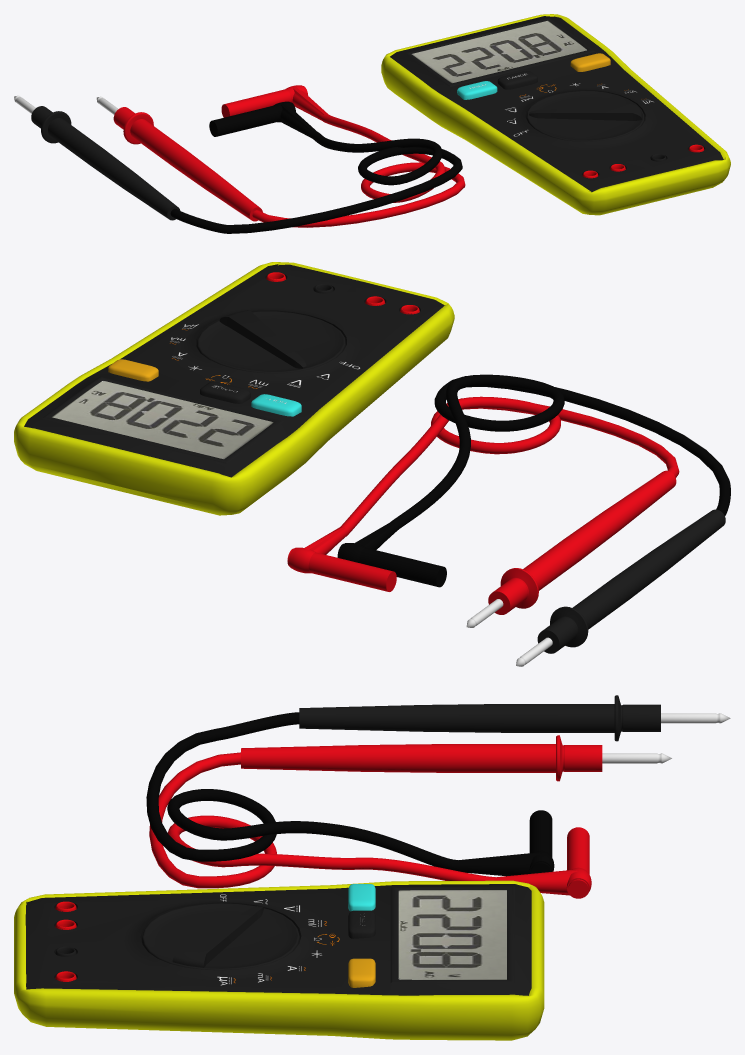
The model's file is fluck__probs.glb.
3 views of the same model, one above another, from view 1: azimuth 30°, elevation 25°; view 2: azimuth 150°, elevation 25°; view 3: azimuth 270°, elevation 25° (orthographic). The views are drawn at different scales.
Parts seen in each view (by area): view 1: Cube_0, BezierCurve.001_20, Cylinder_15, Cylinder.001_16, BezierCurve_19, Cylinder.003_18, Cylinder.002_17, Cube.007_2, Cube.001_3, Cube.003_1; view 2: Cube_0, BezierCurve.001_20, Cylinder.001_16, Cylinder_15, BezierCurve_19, Cylinder.002_17, Cylinder.003_18, Cube.007_2, Cube.001_3, Cube.003_1; view 3: Cube_0, Cylinder.001_16, Cylinder_15, BezierCurve.001_20, BezierCurve_19, Cylinder.003_18, Cylinder.002_17, Cube.007_2, Cube.003_1, Cube.001_3.
Part boxes in pixels (x1,y1,x2,y2): Cube_0: (381, 14, 730, 215); BezierCurve.001_20: (170, 130, 462, 233); Cylinder_15: (96, 96, 262, 221); Cylinder.001_16: (14, 95, 180, 220); BezierCurve_19: (252, 113, 465, 227); Cylinder.003_18: (209, 101, 315, 137); Cylinder.002_17: (221, 85, 328, 120); Cube.007_2: (457, 53, 610, 99); Cube.001_3: (497, 71, 537, 89); Cube.003_1: (582, 144, 704, 178); Cube_0: (14, 262, 454, 515); BezierCurve.001_20: (391, 374, 730, 530); Cylinder.001_16: (516, 509, 725, 666); Cylinder_15: (466, 470, 676, 627); BezierCurve_19: (340, 396, 679, 536); Cylinder.002_17: (287, 526, 396, 591); Cylinder.003_18: (337, 522, 446, 587); Cube.007_2: (108, 359, 301, 416); Cube.001_3: (200, 381, 250, 403); Cube.003_1: (266, 272, 419, 314); Cube_0: (14, 880, 544, 1040); Cylinder.001_16: (299, 695, 730, 741); Cylinder_15: (241, 735, 671, 781); BezierCurve.001_20: (146, 712, 458, 870); BezierCurve_19: (149, 752, 495, 888); Cylinder.003_18: (457, 810, 554, 876); Cylinder.002_17: (494, 827, 591, 898); Cube.007_2: (348, 884, 375, 987); Cube.003_1: (55, 901, 76, 981); Cube.001_3: (348, 910, 375, 938).
Size of the model in its own units: 6.3 by 0.6676 by 5.91.
Materials: 20 (12 with a texture image).
